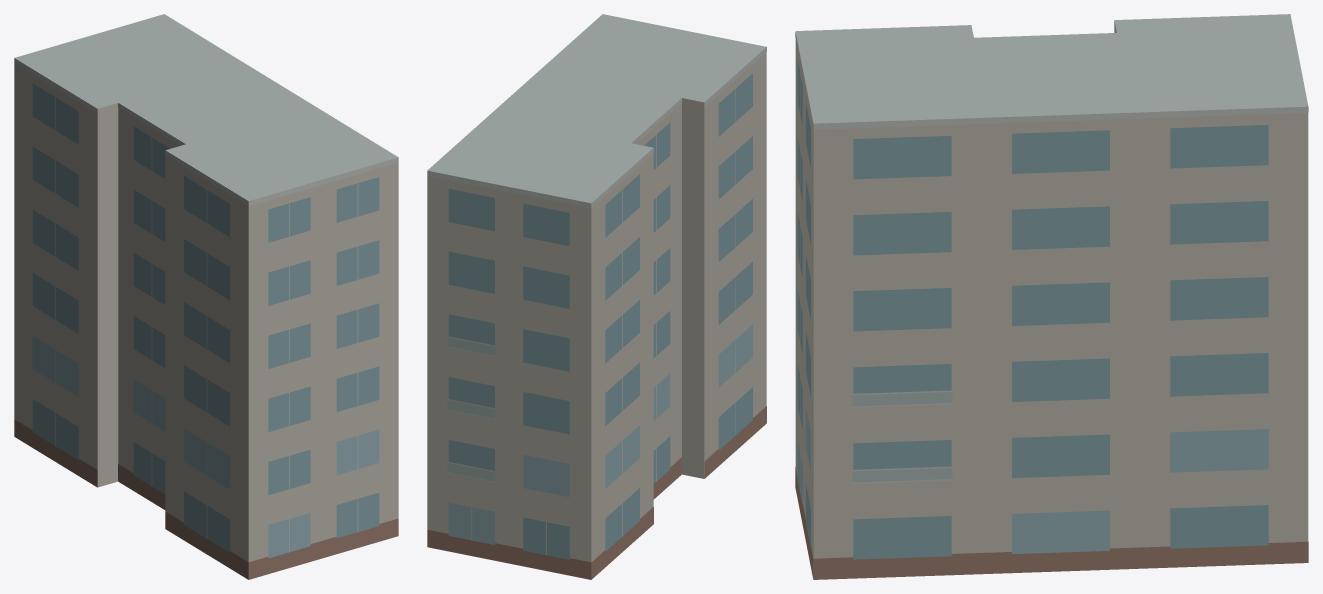
The model's file is survey-upis-33038655.glb.
3 views of the same model, side by side, from view 1: azimuth 30°, elevation 25°; view 2: azimuth 150°, elevation 25°; view 3: azimuth 270°, elevation 25° (orthographic). The views are drawn at different scales.
Visible parts, largest first — view 1: survey-upis-33038655.tmp; view 2: survey-upis-33038655.tmp; view 3: survey-upis-33038655.tmp.
Part boxes in pixels (x1,y1,x2,y2): survey-upis-33038655.tmp: (14,14,398,579); survey-upis-33038655.tmp: (427,14,766,579); survey-upis-33038655.tmp: (795,14,1308,579).
Bounding box in the file's own units: 9.34 × 18.1 × 18.46.
